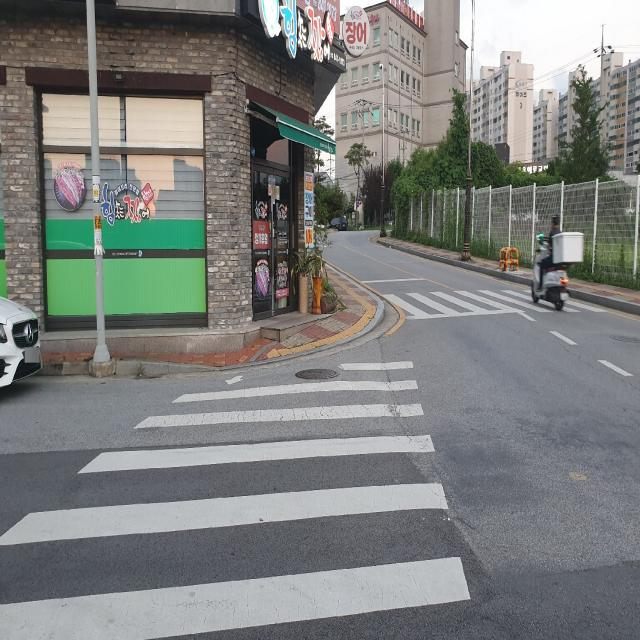횡단보도: (0, 357, 473, 640), (392, 286, 578, 320)
